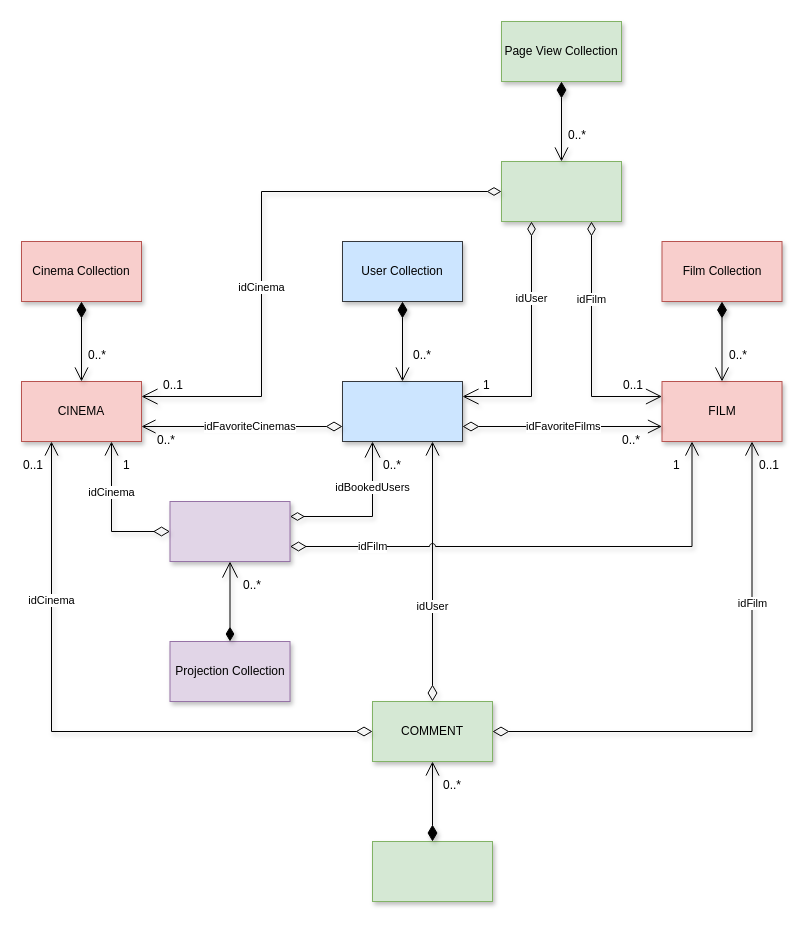
Some shapes in this 810 by 926 pixel diagram are drawn without their labels. Each missing label, with the centre of its shape:
Comment Collection: (x=433, y=872)
PAGE VIEW: (x=562, y=192)
PROJECTION: (x=230, y=532)
USER: (x=403, y=412)
